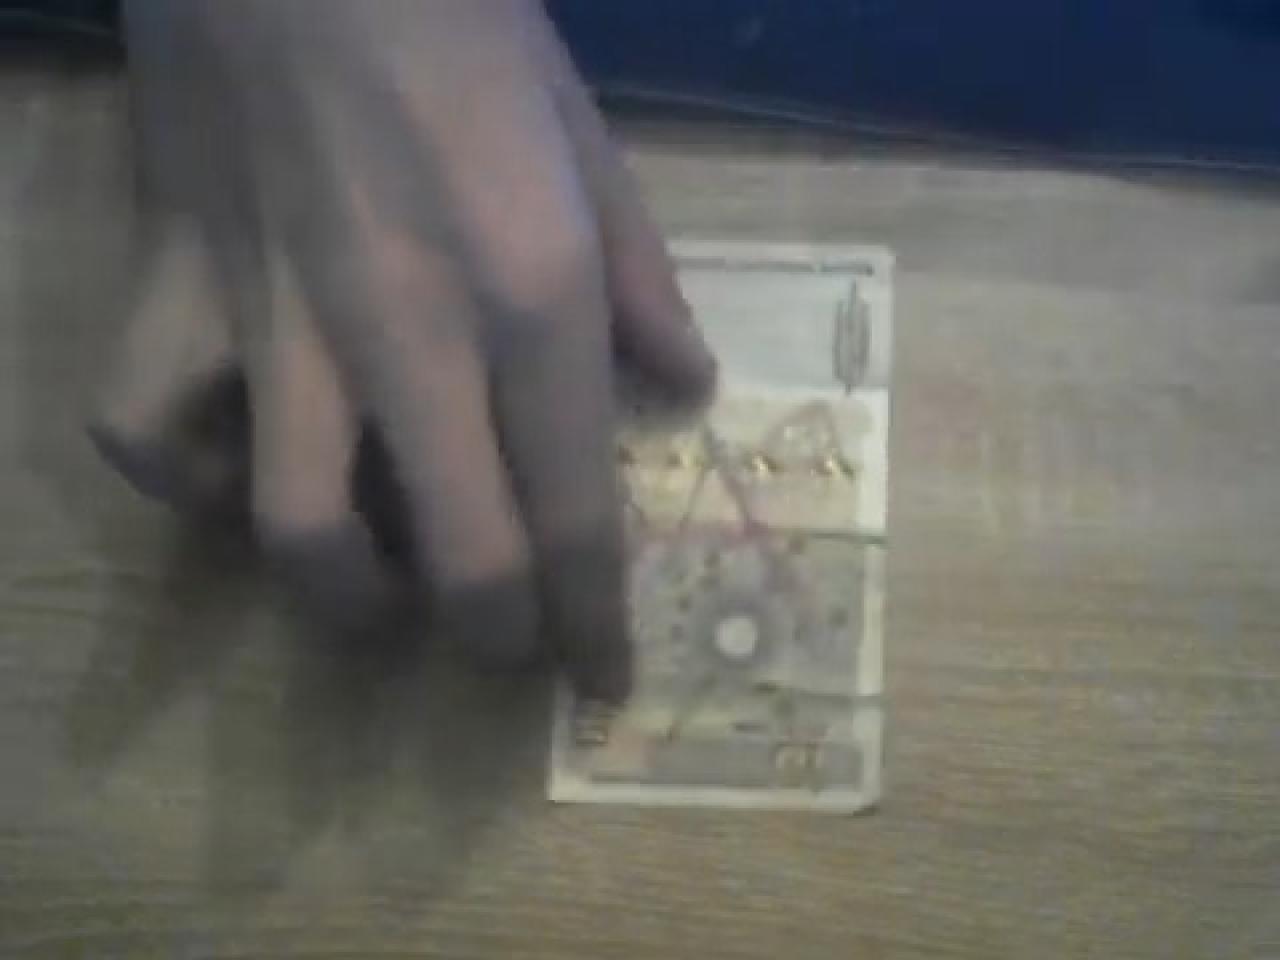10leva: (554, 240, 893, 819)
